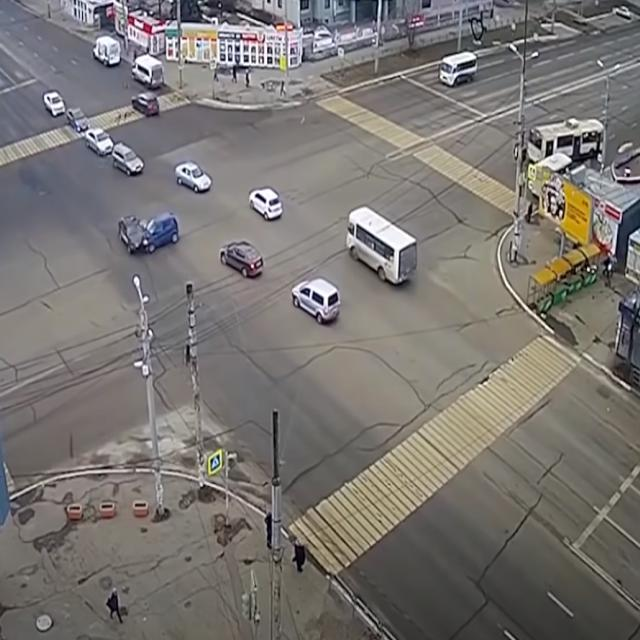accident: (117, 210, 179, 256)
non-accident: (42, 90, 144, 178), (86, 127, 144, 177), (65, 106, 115, 158), (131, 54, 165, 118), (43, 90, 91, 134)
